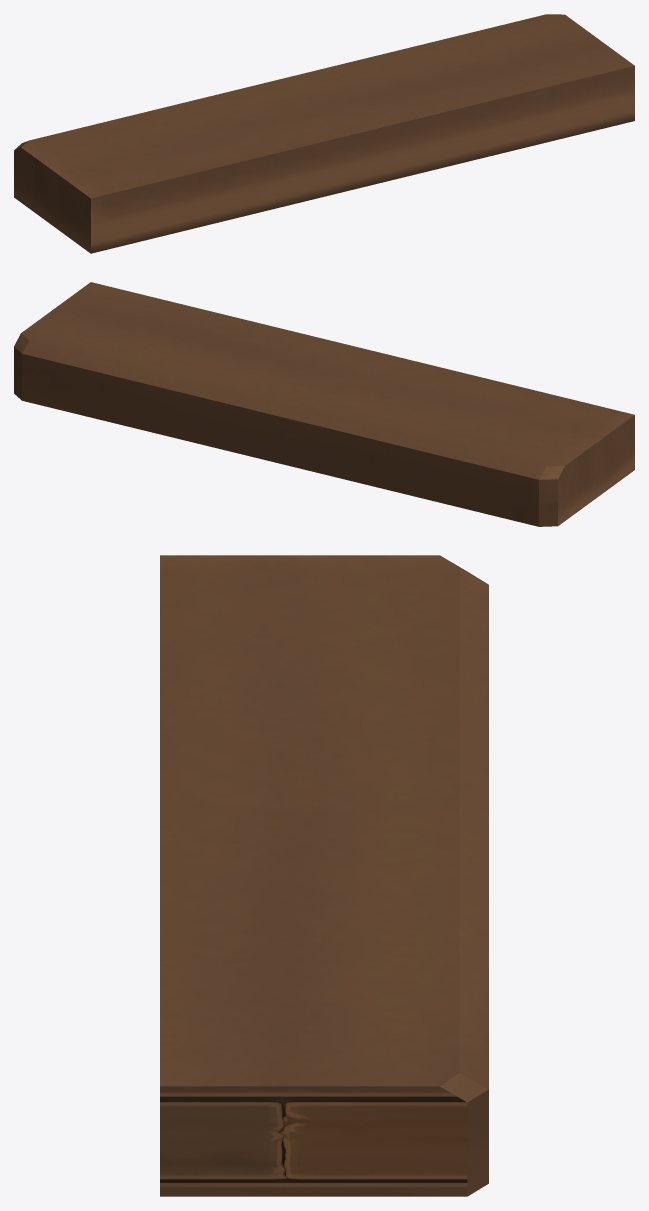
File: Shelf_B.fbx
The picture shows the model from 3 angles, top to bottom: view 1: azimuth 30°, elevation 25°; view 2: azimuth 150°, elevation 25°; view 3: azimuth 270°, elevation 25°; orthographic projection. The views are drawn at different scales.
Visible parts, largest first — view 1: Shelf_B; view 2: Shelf_B; view 3: Shelf_B.
Part boxes in pixels (x1,y1,x2,y2): Shelf_B: (14,14,634,253); Shelf_B: (14,282,634,526); Shelf_B: (160,555,488,1196).
Bounding box in the file's own units: 153 × 14.86 × 40.15.
Materials: 1 (1 with a texture image).
